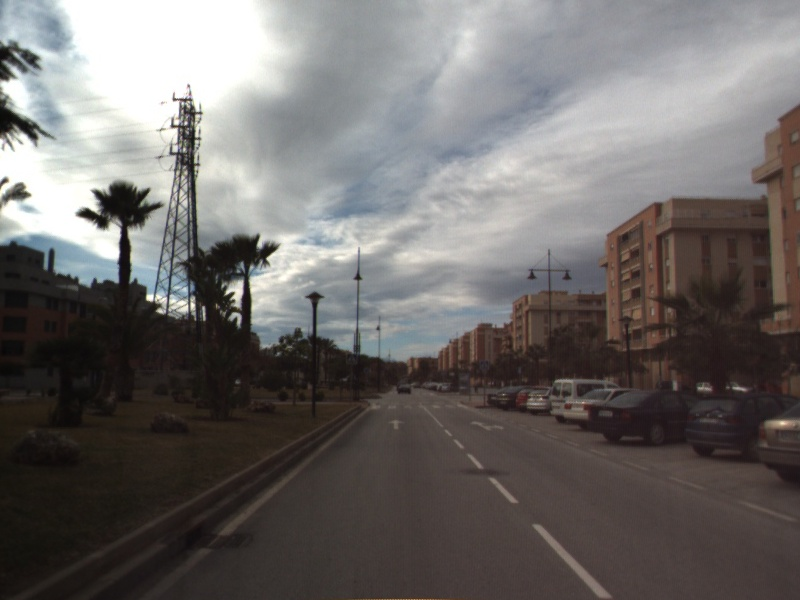STRAIGHT: (386, 417, 407, 431)
STRAIGHT_RIGHT: (468, 418, 506, 432)
